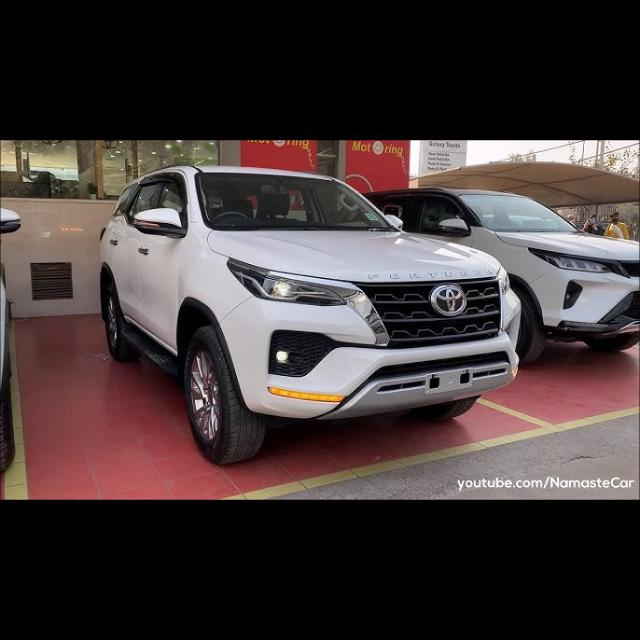number-plate: (413, 365, 489, 397)
vehicles: (90, 161, 528, 468), (359, 187, 640, 359)
